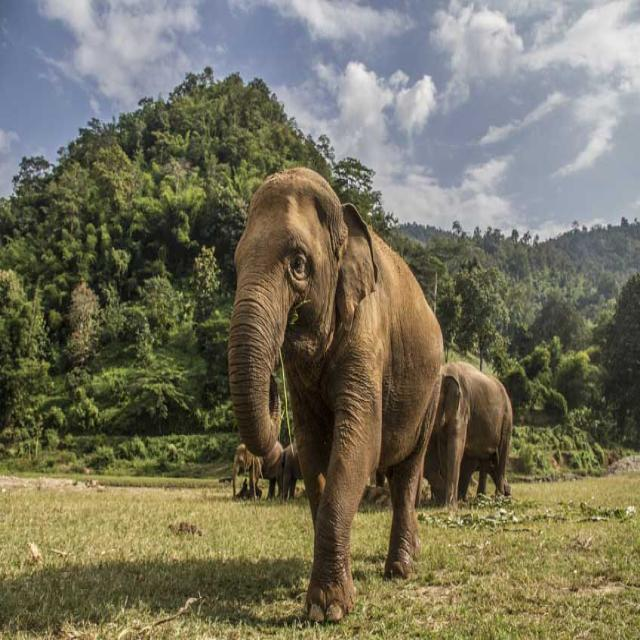Elephant: (216, 150, 438, 640), (417, 360, 552, 521)
